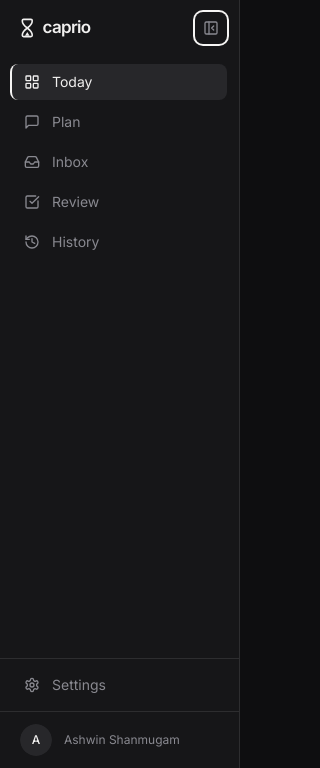
Test: AppSidebar › always offers a toggle, collapses to a rail that keeps every destination, and expands again
Check: the link "Today" is shown, box x1=10 y1=64 x2=227 y2=100
Click the button named "Collapse sidebar" at (211, 28), box x1=195 y1=12 x2=227 y2=44
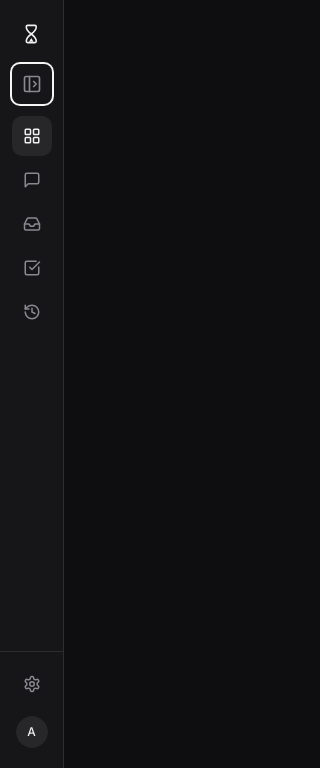
Check: the link named "Open Ashwin Shanmugam's profile" is shown, box x1=16 y1=716 x2=48 y2=748
Click the button named "Expand sidebar" at (32, 84), box x1=12 y1=64 x2=52 y2=104
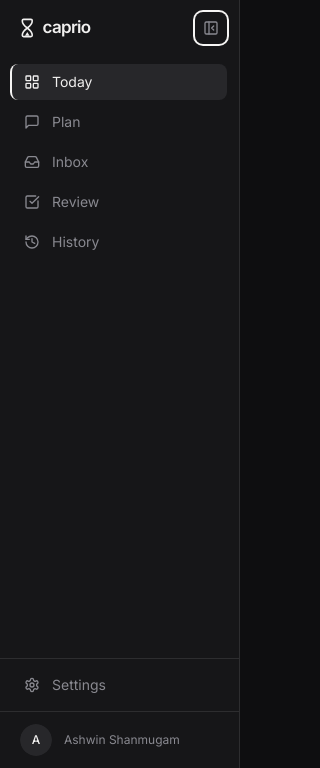
Check: the link "Today" is shown, box x1=10 y1=64 x2=227 y2=100
